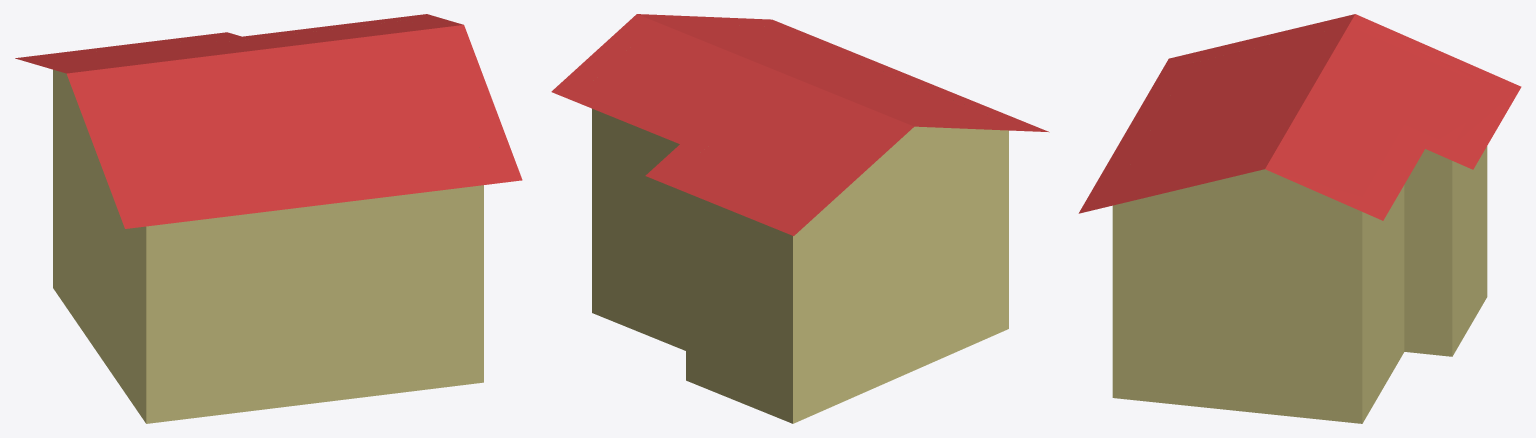
3 views of the same model, side by side, from view 1: azimuth 30°, elevation 25°; view 2: azimuth 150°, elevation 25°; view 3: azimuth 270°, elevation 25° (orthographic). The views are drawn at different scales.
Bounding box in the file's own units: 15.57 × 15.61 × 9.98.
